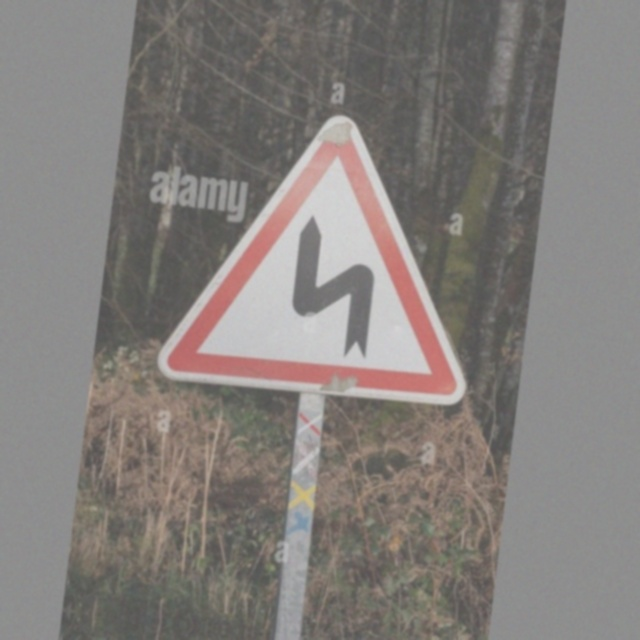Left_Reverse_Bend: (155, 99, 504, 419)
